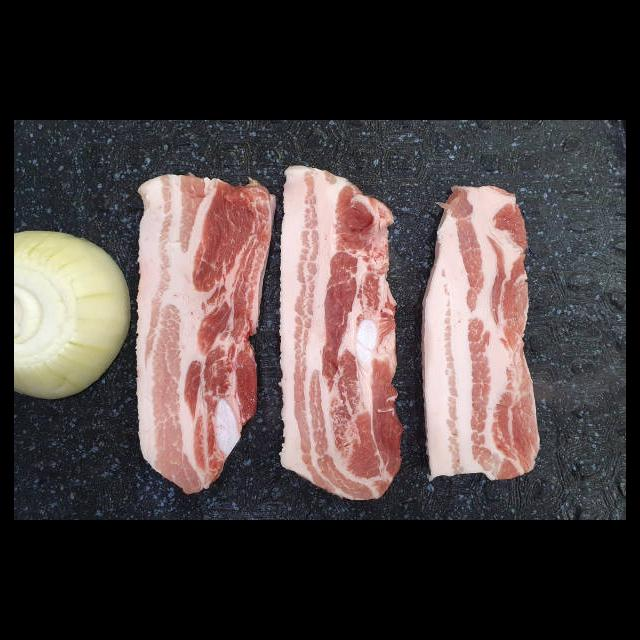pork: (135, 168, 271, 487), (277, 158, 400, 497), (423, 183, 540, 478)
